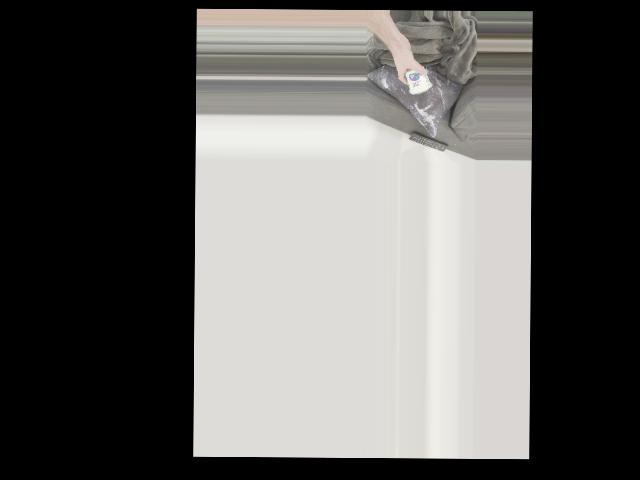cotage: (401, 62, 433, 97)
